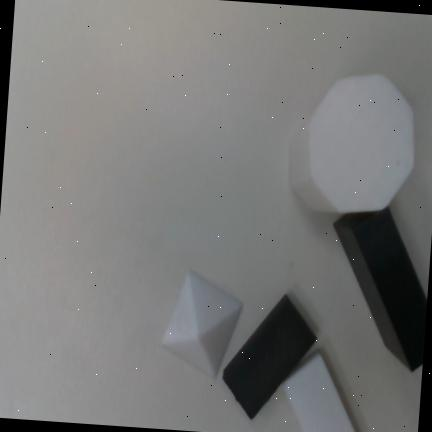Paralelepipedo: (332, 205, 426, 372), (223, 294, 317, 420), (283, 351, 356, 432)
Piramide: (162, 271, 242, 378)
Prisma_hexagonal: (290, 74, 415, 212)
